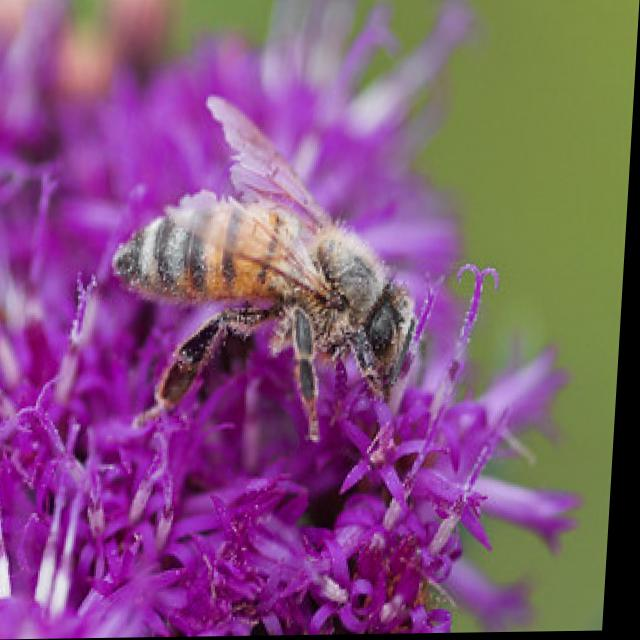Abeille: (71, 71, 501, 446)
